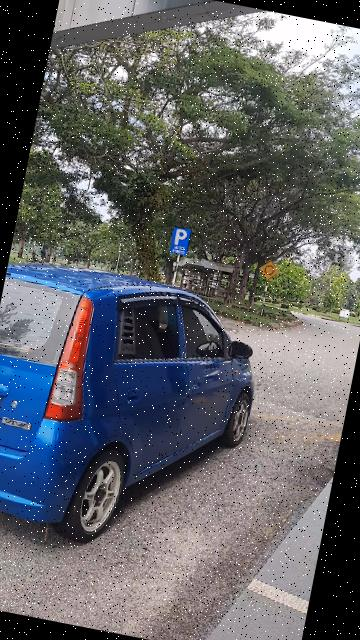car: (1, 250, 278, 567)
